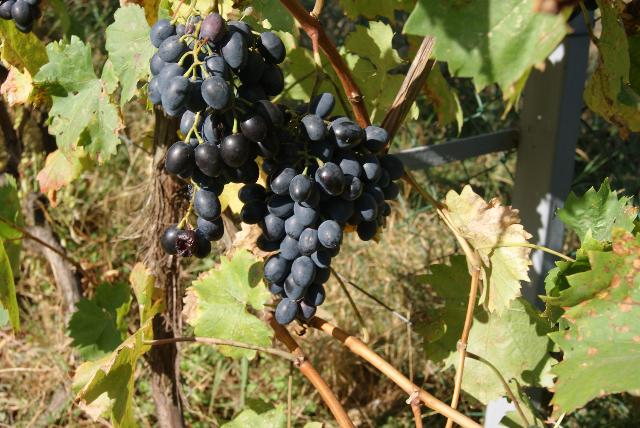grapes: (240, 92, 402, 325), (148, 10, 285, 258)
